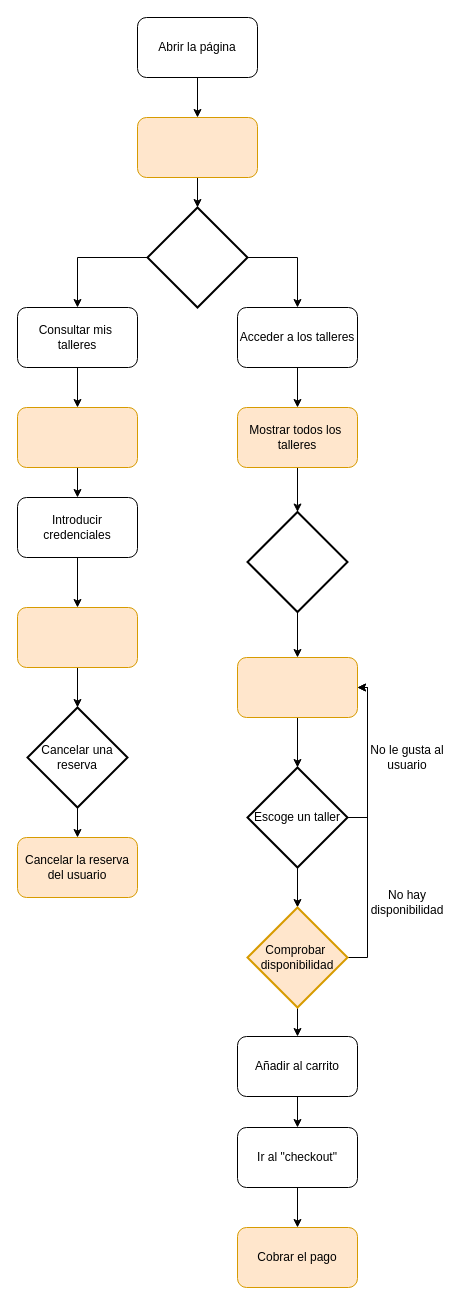
Image size: 465x1305. Some labels were removed from this diagram. Here are the shapes that lost their labels. From the top down, the centre of each, then its label:
pixel 197 147: Muestra la página principal
pixel 197 257: Escoger una acción
pixel 77 437: Iniciar sesión
pixel 297 561: Elegir filtros
pixel 77 637: Mostrar reservas del usuario
pixel 297 687: Mostrar los talleres filtrados
